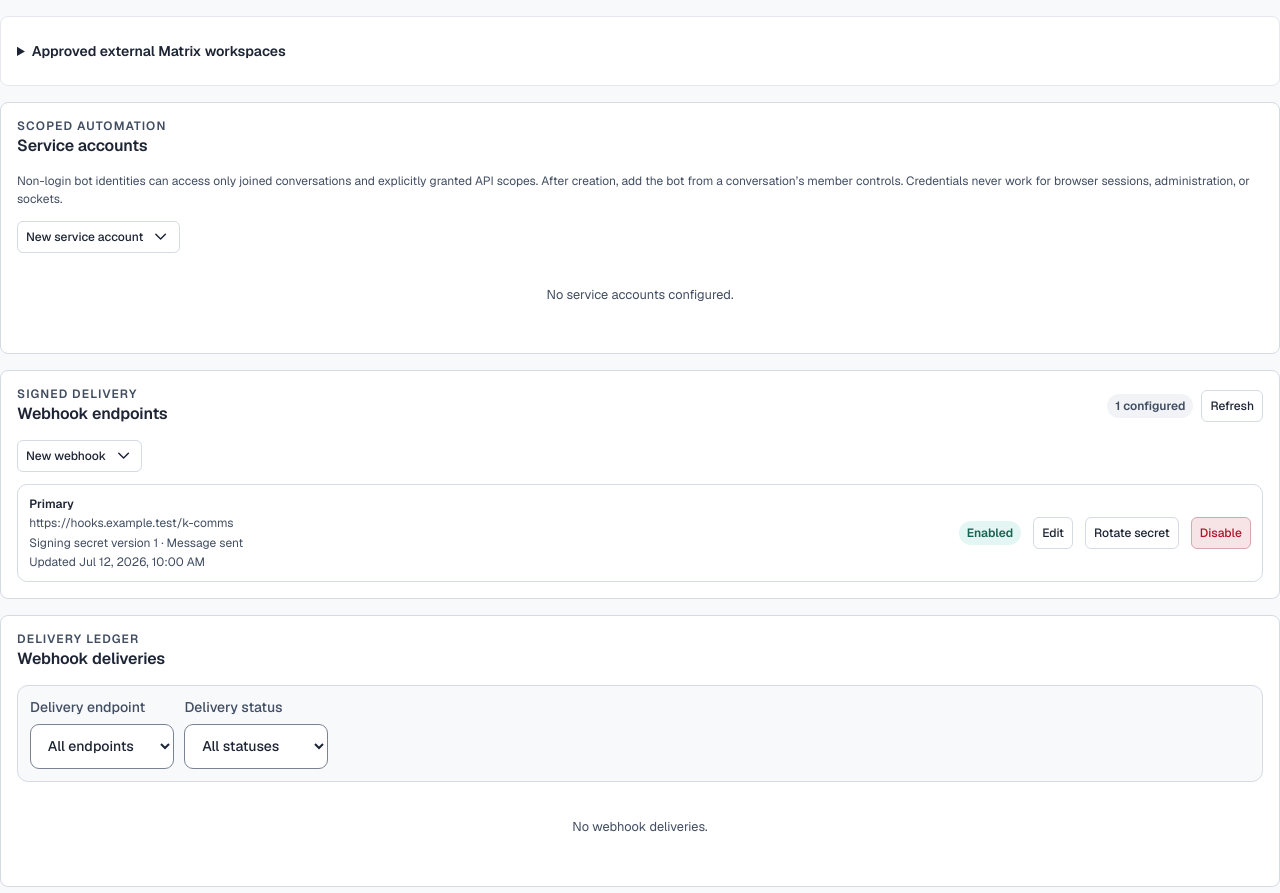
Test: IntegrationsPanel one-time secret handling › reviews secret rotation and submits the required audit reason
The width and height of the screenshot is (1280, 893).
Click the button "Rotate secret".
click(1132, 533)  # box [1085,517,1179,549]
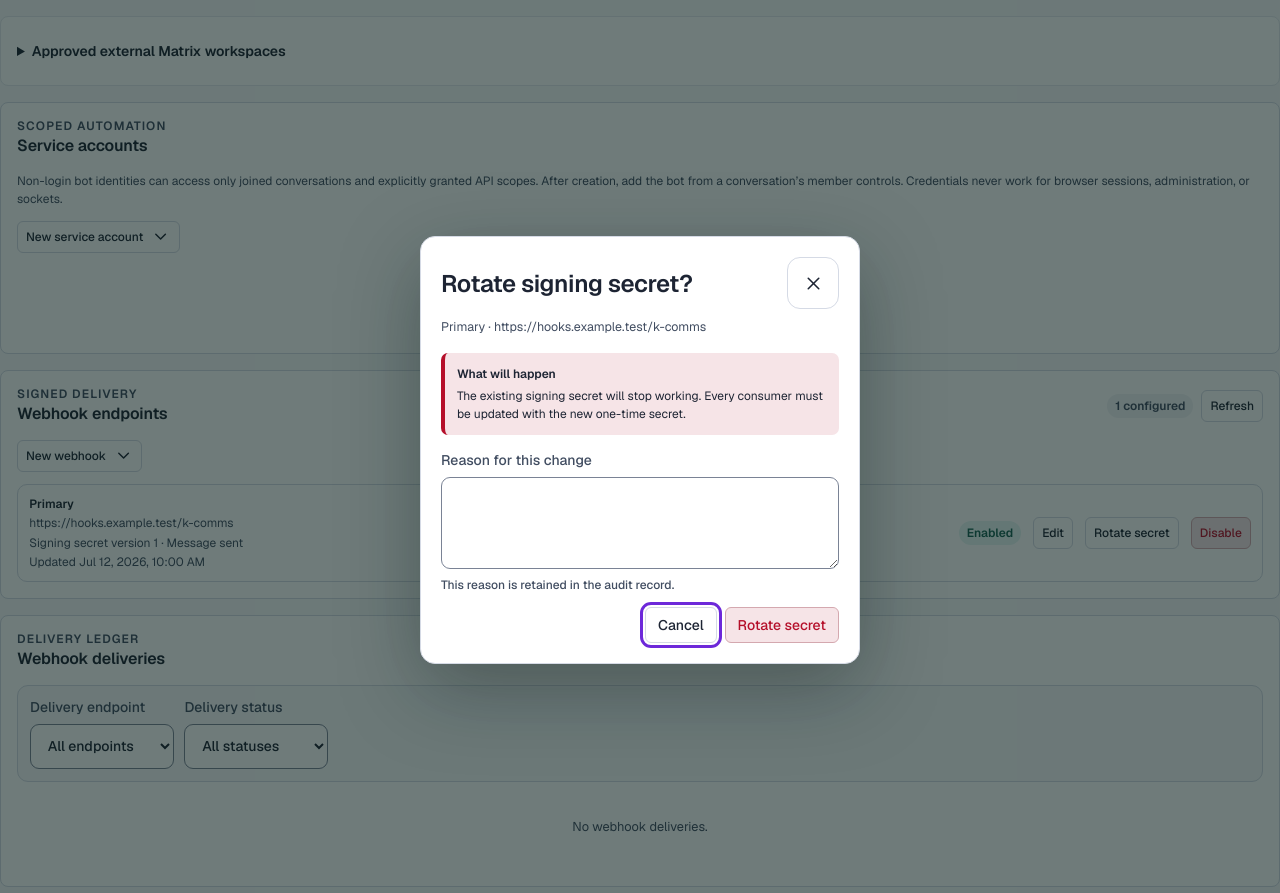
Result: the dialog "Rotate signing secret?" shows "Every consumer must be updated" at [457,388,823,422]
Type "Scheduled rotation" into the text box labelled "Reason for this change".
click(640, 523); type("Scheduled rotation")  # box [441,477,839,569]
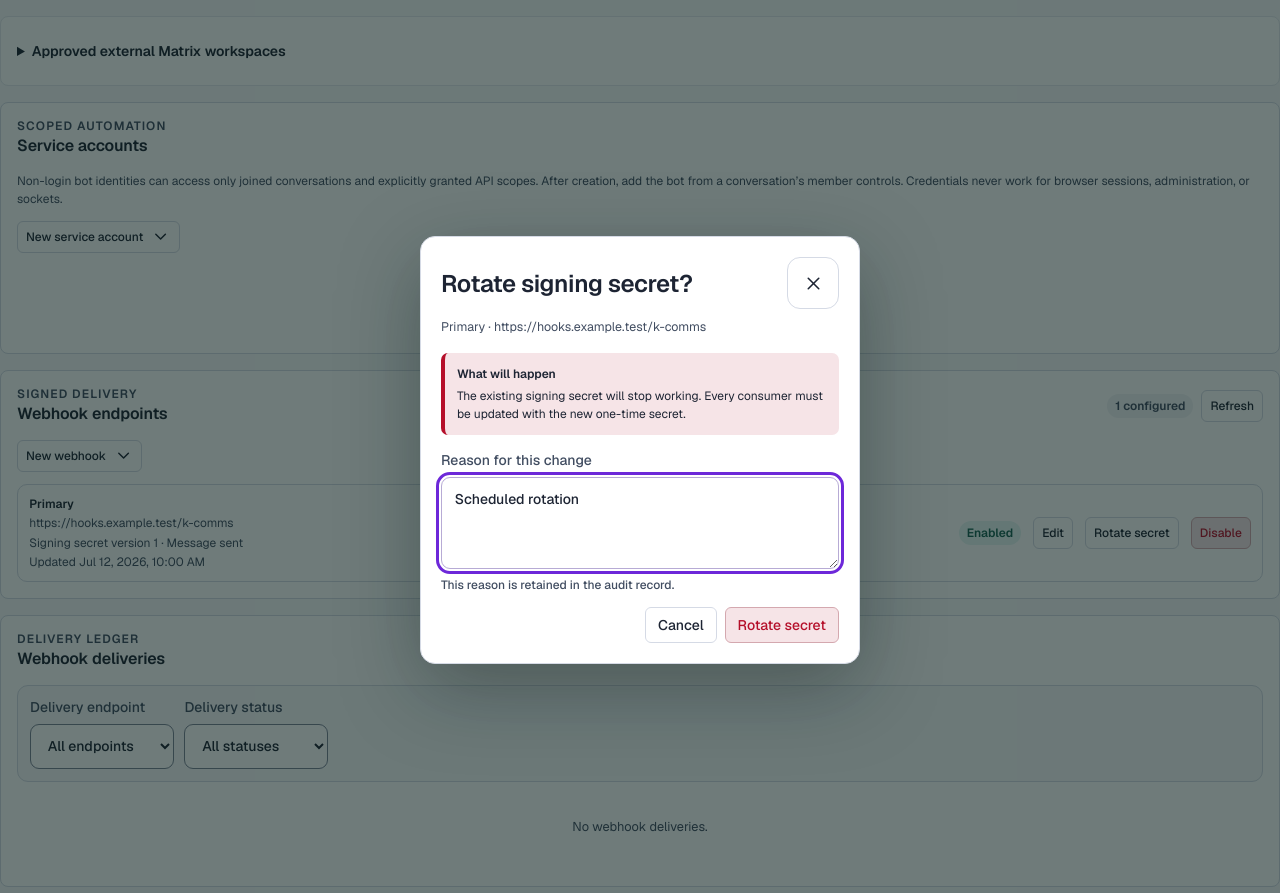
Click the button "Rotate secret".
click(782, 625)  # box [725,607,839,643]
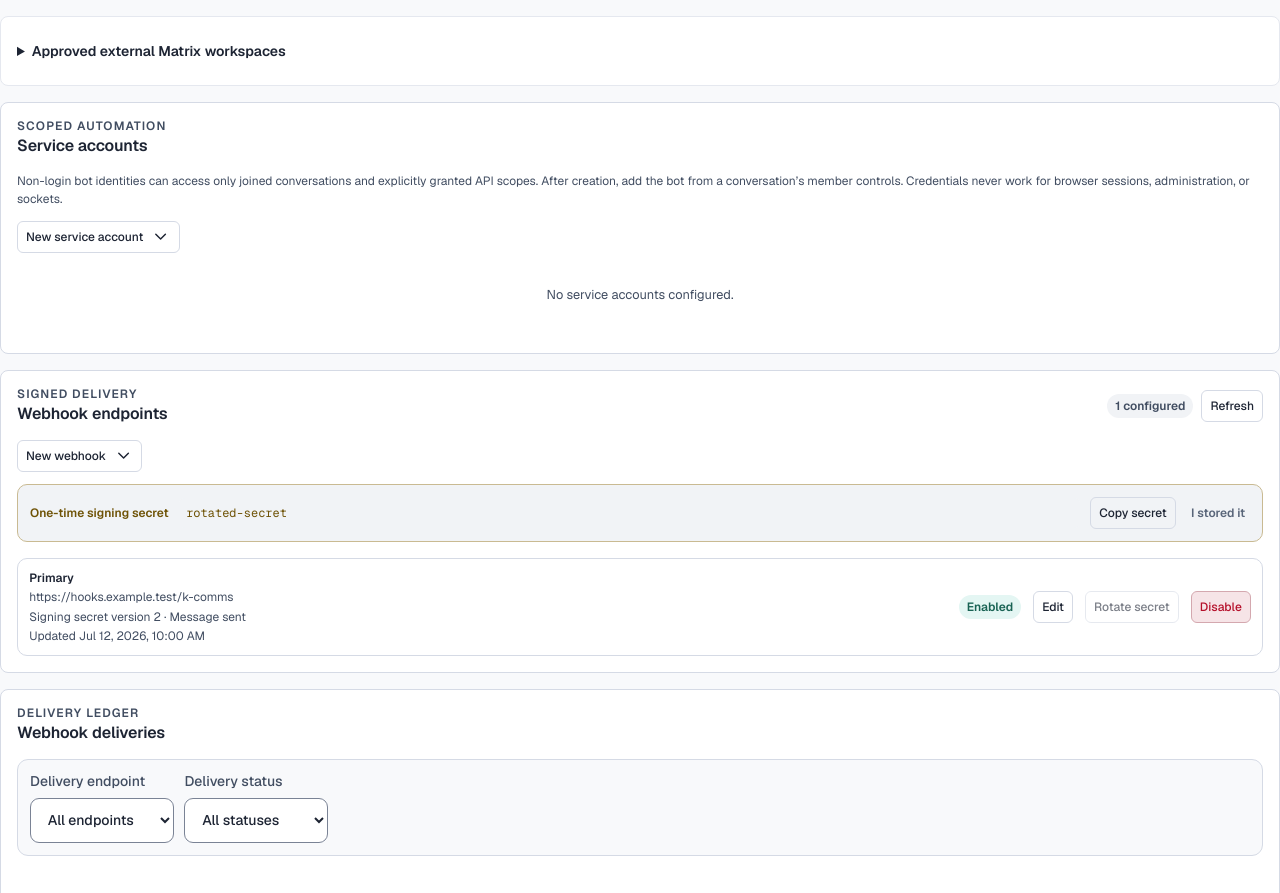
Result: the element "One-time signing secret" shows "rotated-secret" at [186,505,287,521]
